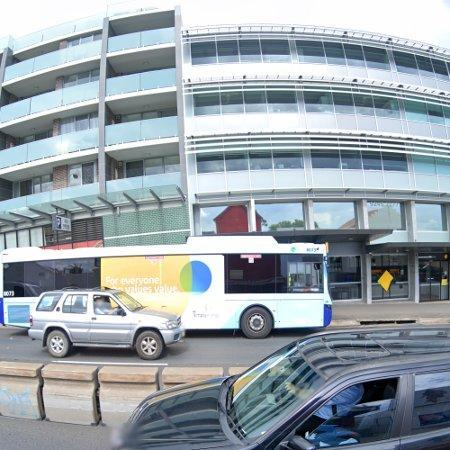buses: (0, 237, 332, 338)
